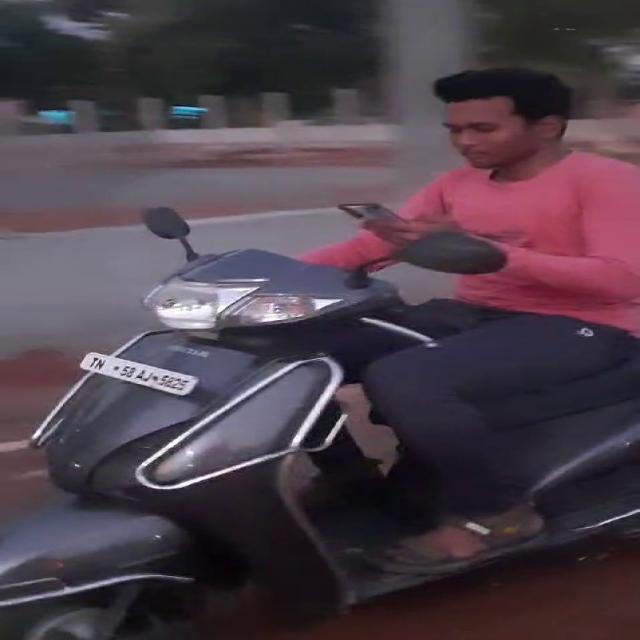USING_MOBILE: (338, 64, 576, 241)
